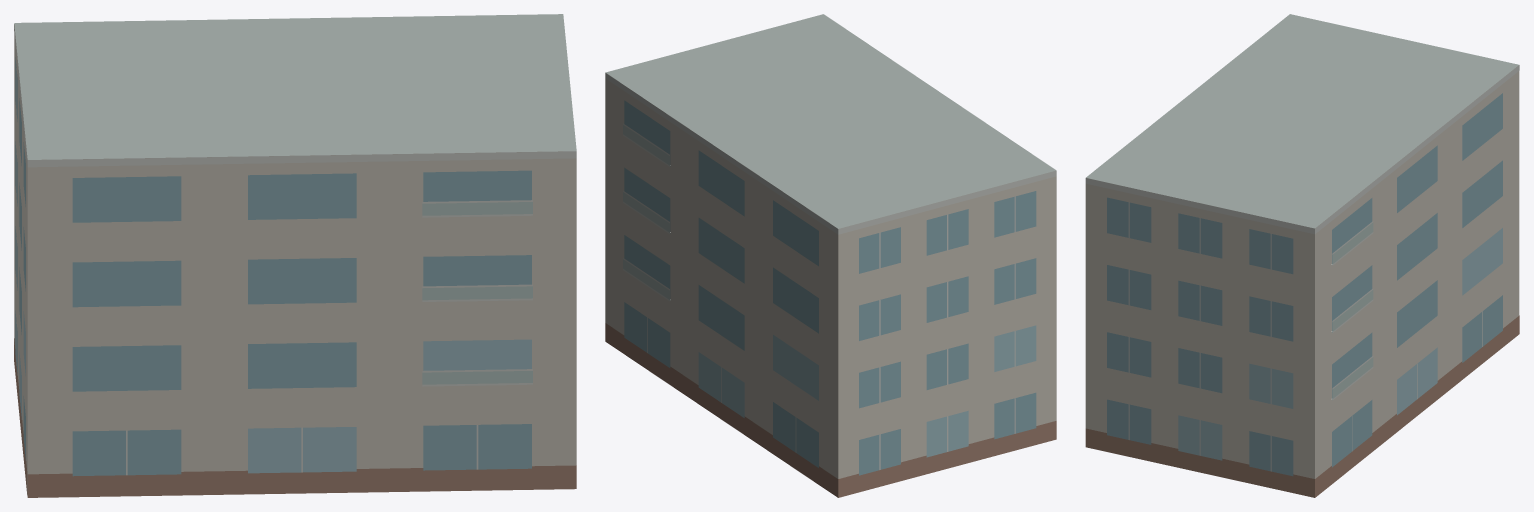
File: survey-upis-33000819.glb
The picture shows the model from 3 angles, left to right: view 1: azimuth 30°, elevation 25°; view 2: azimuth 150°, elevation 25°; view 3: azimuth 270°, elevation 25°; orthographic projection. The views are drawn at different scales.
Visible parts, largest first — view 1: survey-upis-33000819.tmp; view 2: survey-upis-33000819.tmp; view 3: survey-upis-33000819.tmp.
Part boxes in pixels (x1,y1,x2,y2): survey-upis-33000819.tmp: (14,14,576,497); survey-upis-33000819.tmp: (605,14,1056,497); survey-upis-33000819.tmp: (1085,14,1519,497).
Size of the model in its own units: 19.31 by 11.3 by 16.5.
